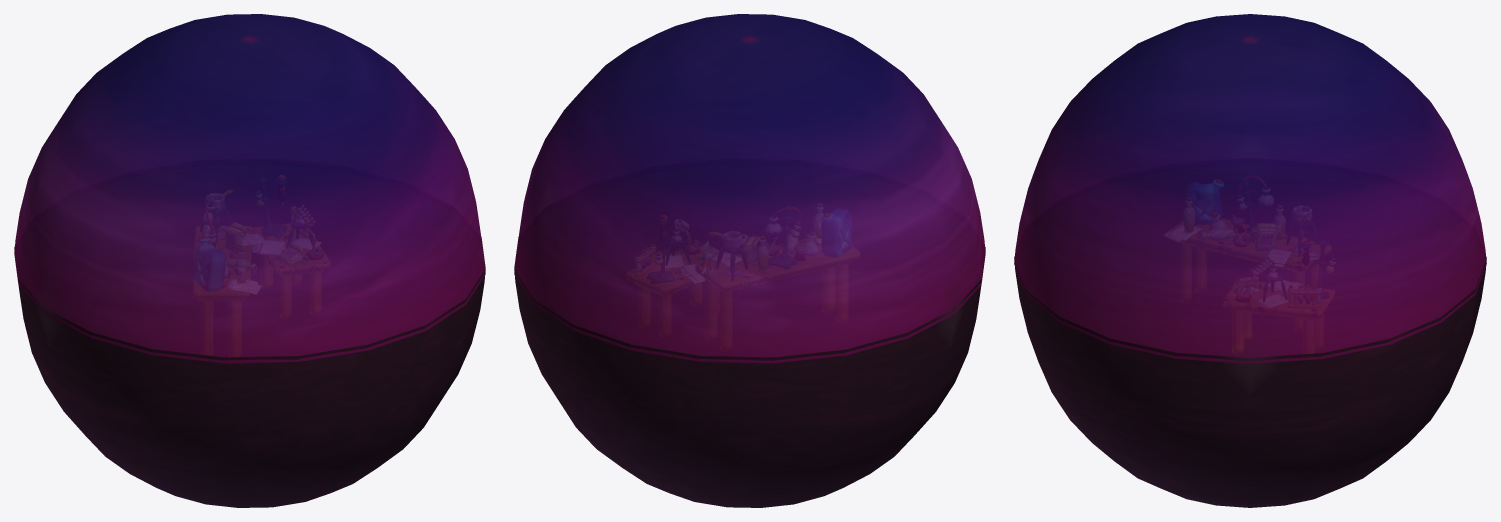
Rendered from Test Tubes.glb.
3 views of the same model, side by side, from view 1: azimuth 30°, elevation 25°; view 2: azimuth 150°, elevation 25°; view 3: azimuth 270°, elevation 25° (orthographic).
Parts seen in each view (by area): view 1: Inst3D_RefRep.017, Inst3D_RefRep.002; view 2: Inst3D_RefRep.017, Inst3D_RefRep.002; view 3: Inst3D_RefRep.017, Inst3D_RefRep.002.
Boxes of the visible parts, box(x1,y1,x2,y2) form: Inst3D_RefRep.017: box(14, 14, 485, 363); Inst3D_RefRep.002: box(14, 237, 485, 507); Inst3D_RefRep.017: box(514, 14, 985, 363); Inst3D_RefRep.002: box(514, 237, 985, 507); Inst3D_RefRep.017: box(1014, 14, 1486, 363); Inst3D_RefRep.002: box(1014, 256, 1486, 507).
Bounding box in the file's own units: 22.31 × 23.03 × 22.28.
22 materials, 22 textured.
